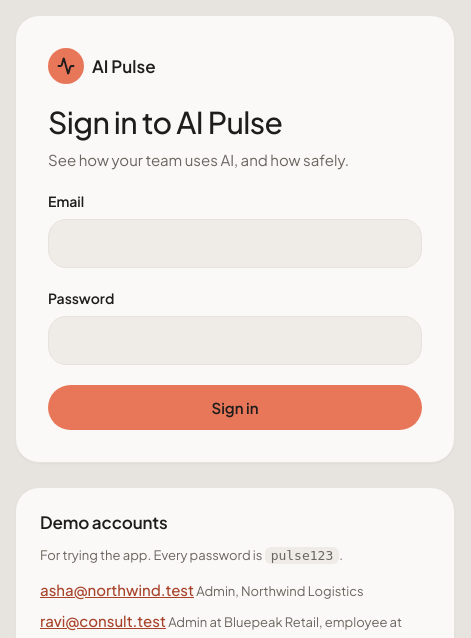
it: Login › shows the server's rate-limit message as it is
In the field labelled "Email": (235, 244) [48,219,422,268], type "asha@northwind.test"
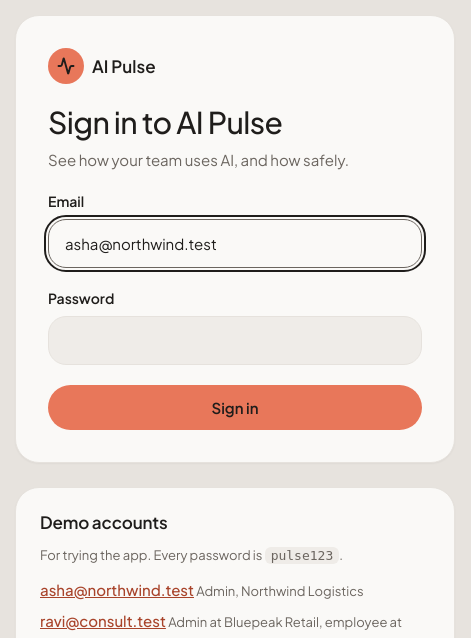
In the password field labelled "Password": (235, 341) [48,316,422,365], type "pulse123"
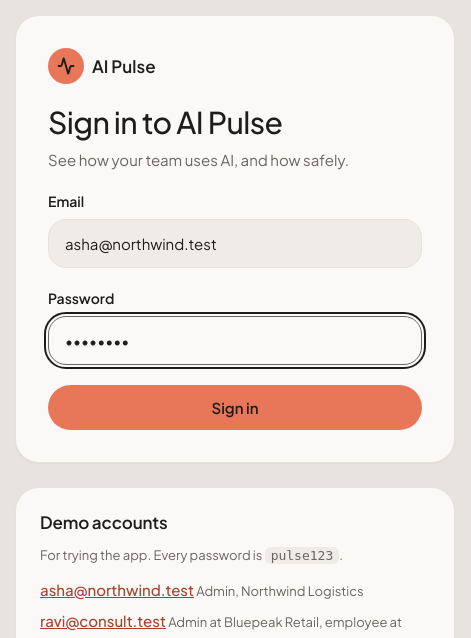
Click the button "Sign in": (235, 408) [48,385,422,430]
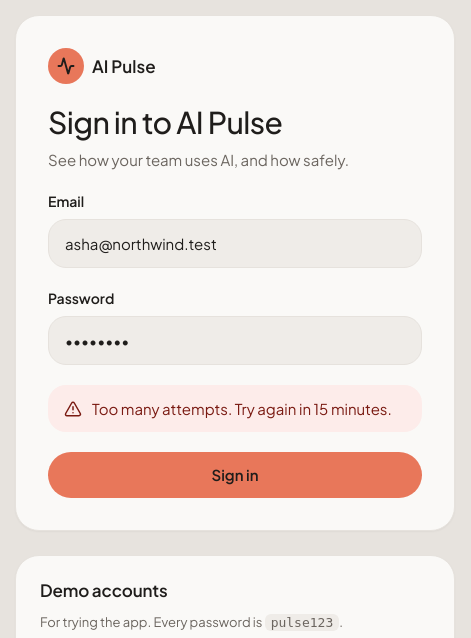
Check: the button "Sign in" is enabled, box [48,452,422,498]
Check: the message reads "Too many attempts. Try again in 15 minutes.", box [92,399,392,418]
